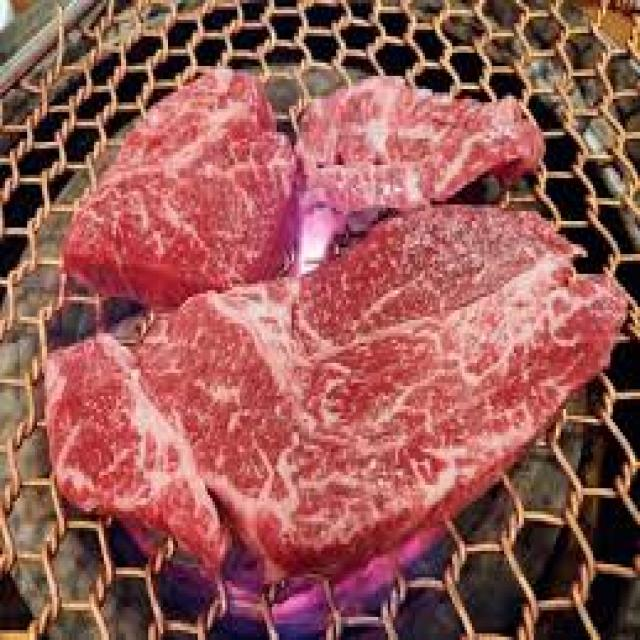Beef: (136, 208, 628, 579), (64, 69, 297, 308), (44, 336, 230, 574)
